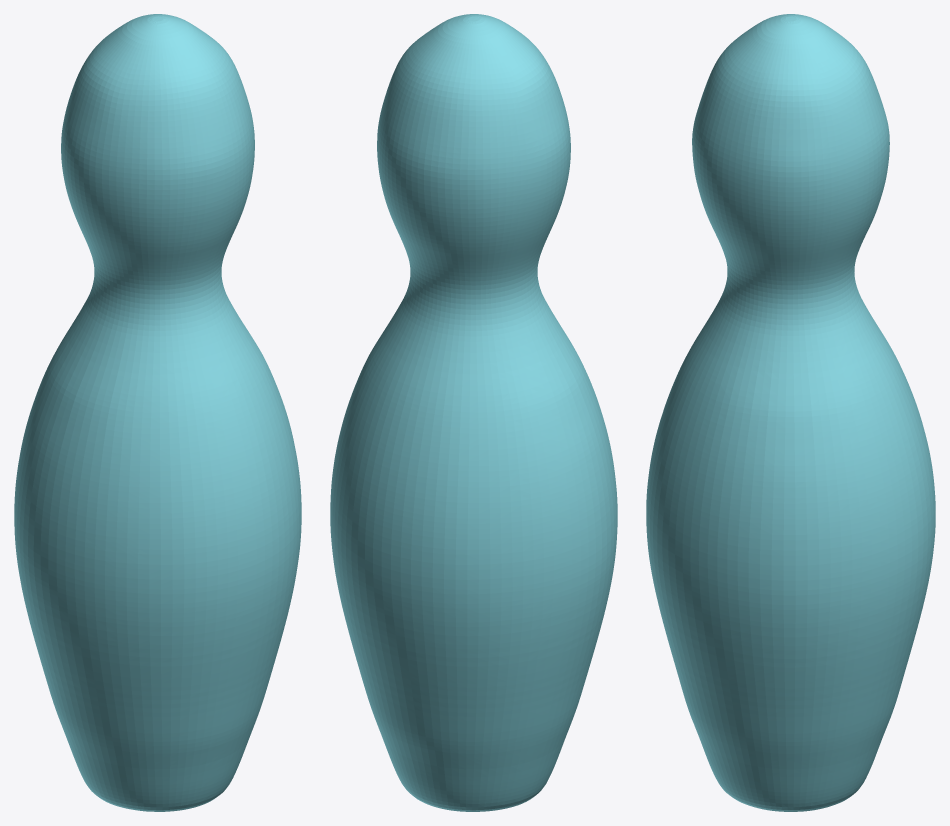
Rendered from bowling_pin_remeshed.fbx.
The picture shows the model from 3 angles, left to right: view 1: azimuth 30°, elevation 25°; view 2: azimuth 150°, elevation 25°; view 3: azimuth 270°, elevation 25°; orthographic projection.
Visible parts, largest first — view 1: Retopo_Cylinder.002; view 2: Retopo_Cylinder.002; view 3: Retopo_Cylinder.002.
Part boxes in pixels (left/top/right/bottom): Retopo_Cylinder.002: left=14, top=14, right=301, bottom=811; Retopo_Cylinder.002: left=330, top=14, right=617, bottom=811; Retopo_Cylinder.002: left=646, top=14, right=935, bottom=811.
Size of the model in its own units: 187 by 544 by 186.
